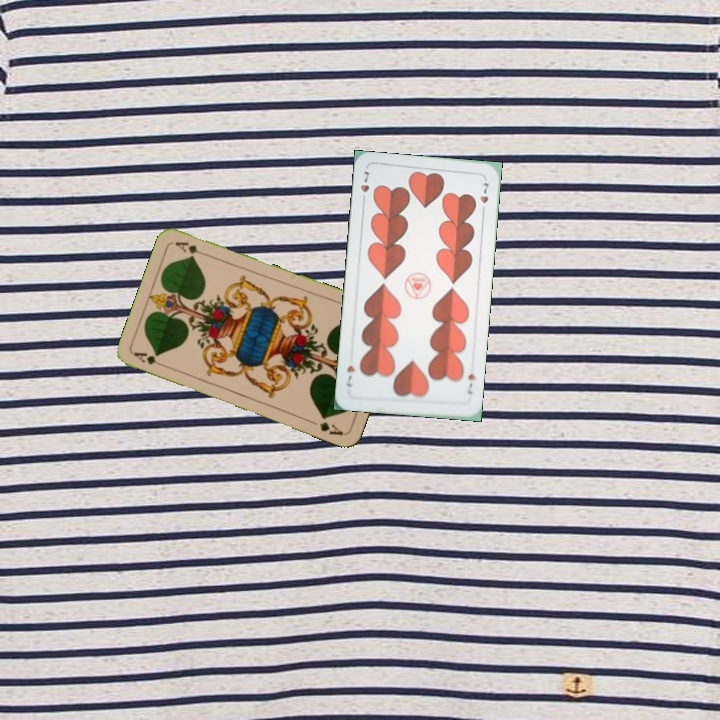GA: (130, 348, 169, 370)
H7: (356, 167, 372, 206), (463, 369, 478, 397)
